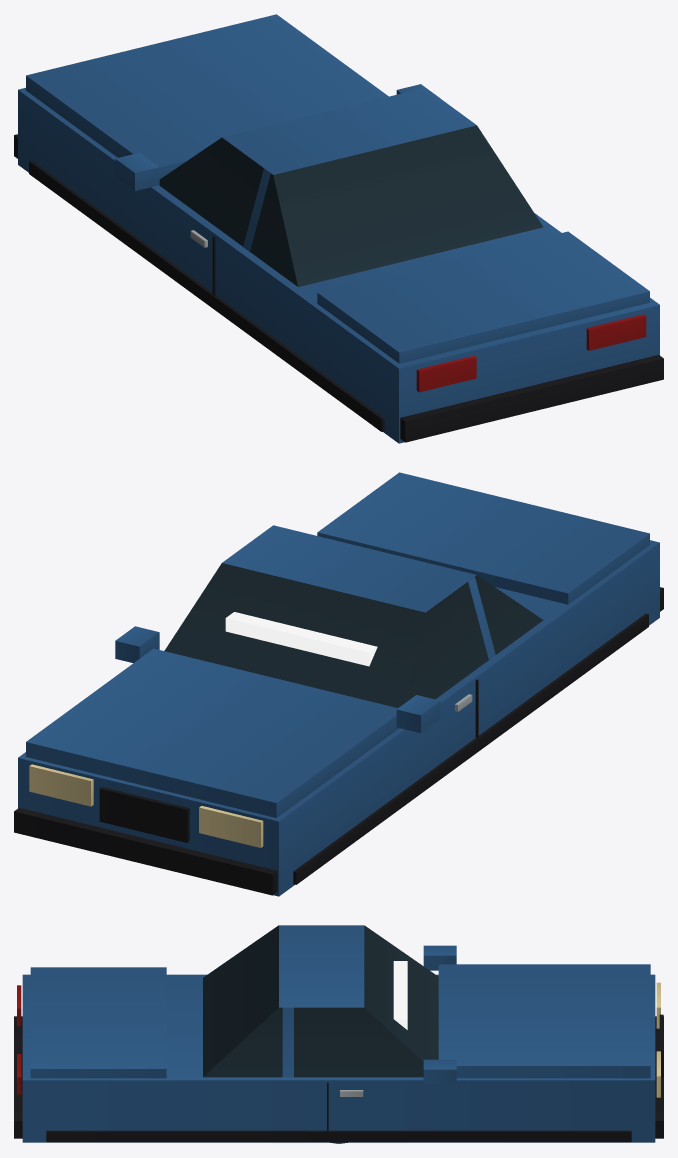
File: meridian.glb
3 renders of one model, top to bottom at view 1: azimuth 30°, elevation 25°; view 2: azimuth 150°, elevation 25°; view 3: azimuth 270°, elevation 25°, orthographic. The views are drawn at different scales.
Visible parts, largest first — view 1: Body; view 2: Body, HeadlightLens; view 3: Body, HeadlightLens.
Part boxes in pixels (x1,y1,x2,y2): Body: (14, 14, 663, 443); Body: (14, 472, 663, 896); HeadlightLens: (225, 612, 377, 666); Body: (14, 925, 663, 1142); HeadlightLens: (270, 961, 407, 1143).
Size of the model in its own units: 2.13 by 1.19 by 4.72.
Materials: 3 (2 with a texture image).
